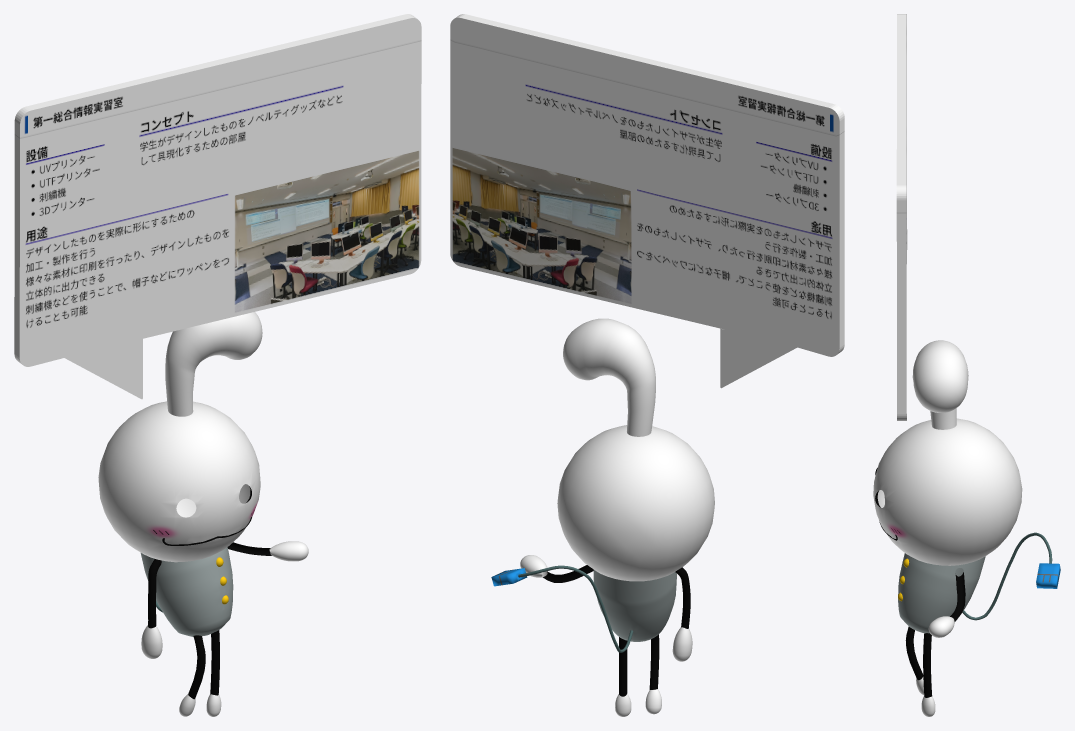
File: first.glb
The picture shows the model from 3 angles, left to right: view 1: azimuth 30°, elevation 25°; view 2: azimuth 150°, elevation 25°; view 3: azimuth 270°, elevation 25°; orthographic projection. The views are drawn at different scales.
Visible parts, largest first — view 1: 吹き出し１, 頭, 胴, 触覚, 吹き出し２, 左拳; view 2: 吹き出し１, 頭, 触覚, 胴, 吹き出し２, 尻尾; view 3: 頭, 吹き出し１, 胴, 触覚, マウス, 尻尾, 左脚, 左拳, 右脚, 左腕.
Boxes of the visible parts, box(x1,y1,x2,y2) form: 吹き出し１: box(14, 14, 421, 366); 頭: box(98, 401, 260, 562); 胴: box(140, 547, 233, 636); 触覚: box(165, 312, 262, 416); 吹き出し２: box(64, 339, 142, 399); 左拳: box(269, 541, 308, 561); 吹き出し１: box(450, 14, 844, 356); 頭: box(557, 425, 714, 581); 触覚: box(563, 318, 655, 436); 胴: box(593, 570, 676, 641); 吹き出し２: box(720, 328, 797, 388); 尻尾: box(518, 565, 633, 652); 頭: box(873, 418, 1022, 565); 吹き出し１: box(896, 14, 907, 420); 胴: box(898, 553, 985, 633); 触覚: box(912, 340, 968, 429); マウス: box(1036, 563, 1060, 588); 尻尾: box(962, 532, 1052, 620); 左脚: box(923, 633, 932, 697); 左拳: box(928, 616, 954, 637); 右脚: box(905, 626, 923, 680); 左腕: box(950, 572, 965, 621).
Size of the model in its own units: 14.43 by 22.91 by 6.36.
12 materials, 2 textured.
